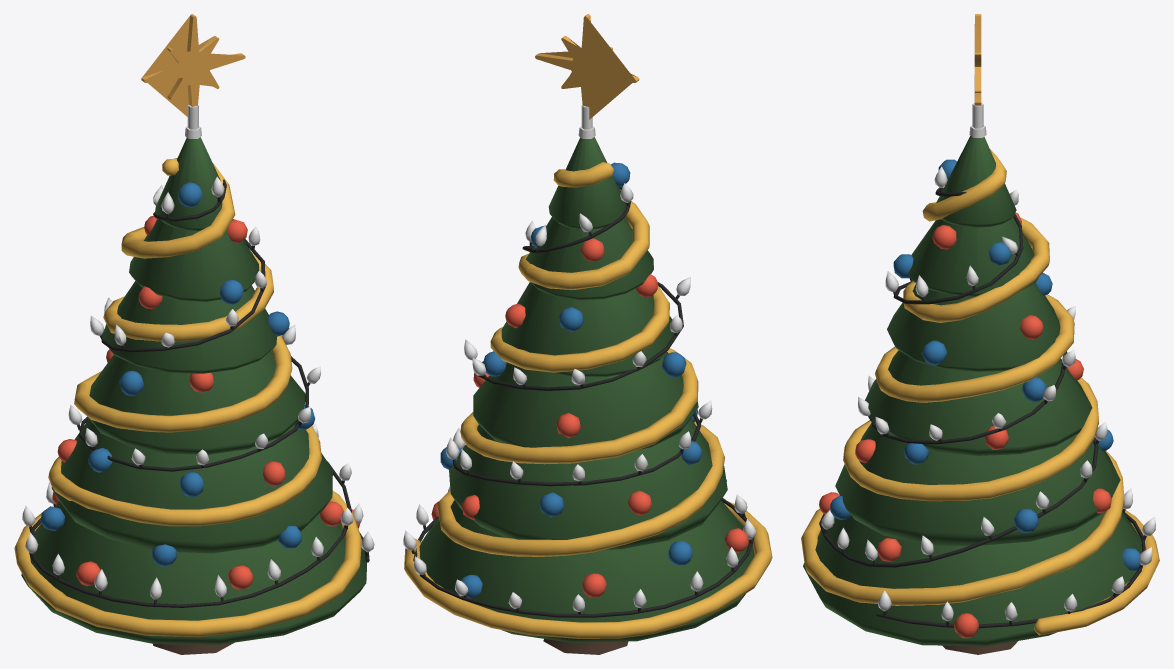
File: ChristmasTree_01.fbx
The picture shows the model from 3 angles, left to right: view 1: azimuth 30°, elevation 25°; view 2: azimuth 150°, elevation 25°; view 3: azimuth 270°, elevation 25°; orthographic projection.
Visible parts, largest first — view 1: ChristmasTree_01, ChristmasTree_01_Ribbon, ChristmasTree_01_Lights, ChristmasTree_01_Ornaments; view 2: ChristmasTree_01, ChristmasTree_01_Ribbon, ChristmasTree_01_Lights, ChristmasTree_01_Ornaments; view 3: ChristmasTree_01, ChristmasTree_01_Ribbon, ChristmasTree_01_Lights, ChristmasTree_01_Ornaments.
Boxes of the visible parts, <box> form: ChristmasTree_01: <box>21,14,367,654</box>; ChristmasTree_01_Ribbon: <box>14,158,361,637</box>; ChristmasTree_01_Lights: <box>22,176,374,607</box>; ChristmasTree_01_Ornaments: <box>40,182,360,589</box>; ChristmasTree_01: <box>419,14,754,654</box>; ChristmasTree_01_Ribbon: <box>404,162,772,638</box>; ChristmasTree_01_Lights: <box>403,183,756,617</box>; ChristmasTree_01_Ornaments: <box>431,162,748,598</box>; ChristmasTree_01: <box>803,14,1145,654</box>; ChristmasTree_01_Ribbon: <box>801,149,1159,635</box>; ChristmasTree_01_Lights: <box>819,166,1155,628</box>; ChristmasTree_01_Ornaments: <box>819,159,1140,638</box>.
Bounding box in the file's own units: 1.2 × 2.27 × 1.19.
